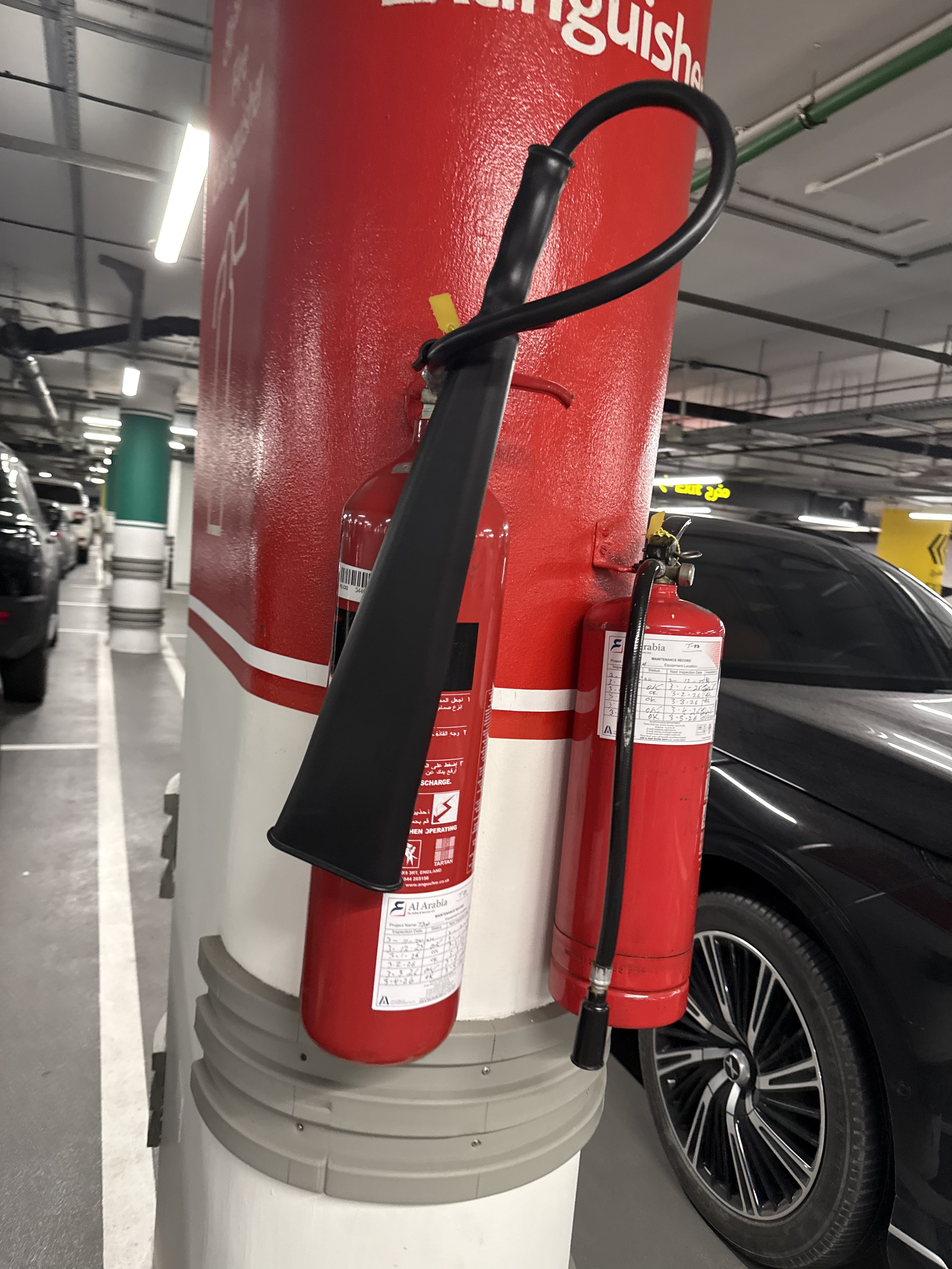fire_extinguisher: (289, 75, 736, 1068), (296, 326, 573, 1065), (297, 349, 513, 1064), (547, 511, 726, 1044)
